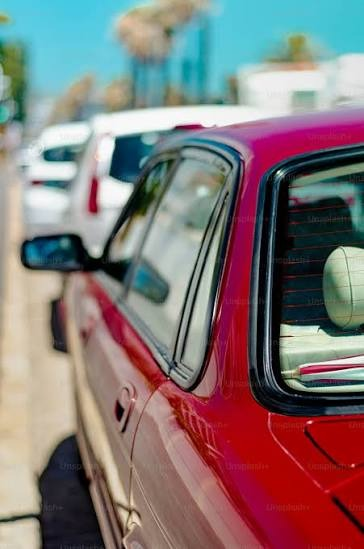car: (22, 55, 364, 547), (10, 133, 185, 533), (32, 118, 163, 259), (75, 121, 181, 255), (20, 120, 118, 256), (28, 122, 98, 194)
